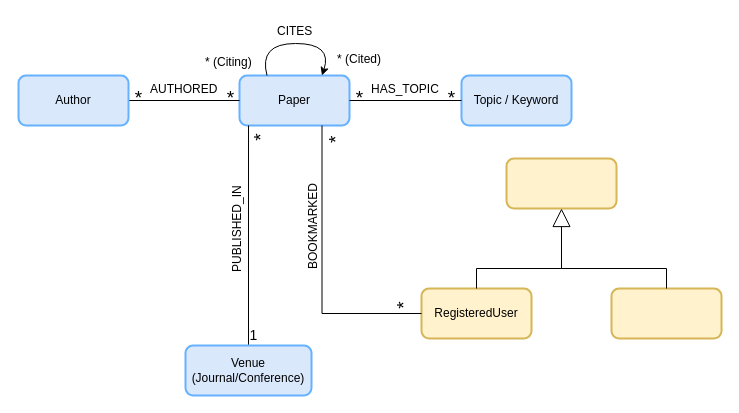
The diagram is 739 pixels wide and 413 high, and some of its shapes have lost their labels. The shapes that lost their labels are listed below. From the top down, each one's box as (x1, y1, x2, y2) in pixels, then its label:
(505, 157, 617, 209): User
(610, 287, 722, 339): Admin
